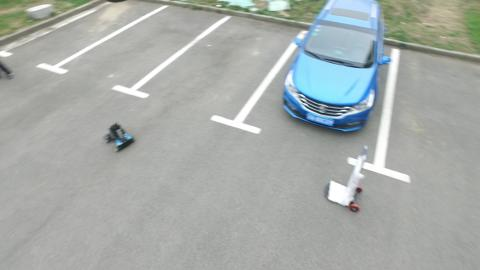car: (276, 15, 382, 137)
chariot: (86, 118, 135, 156)
